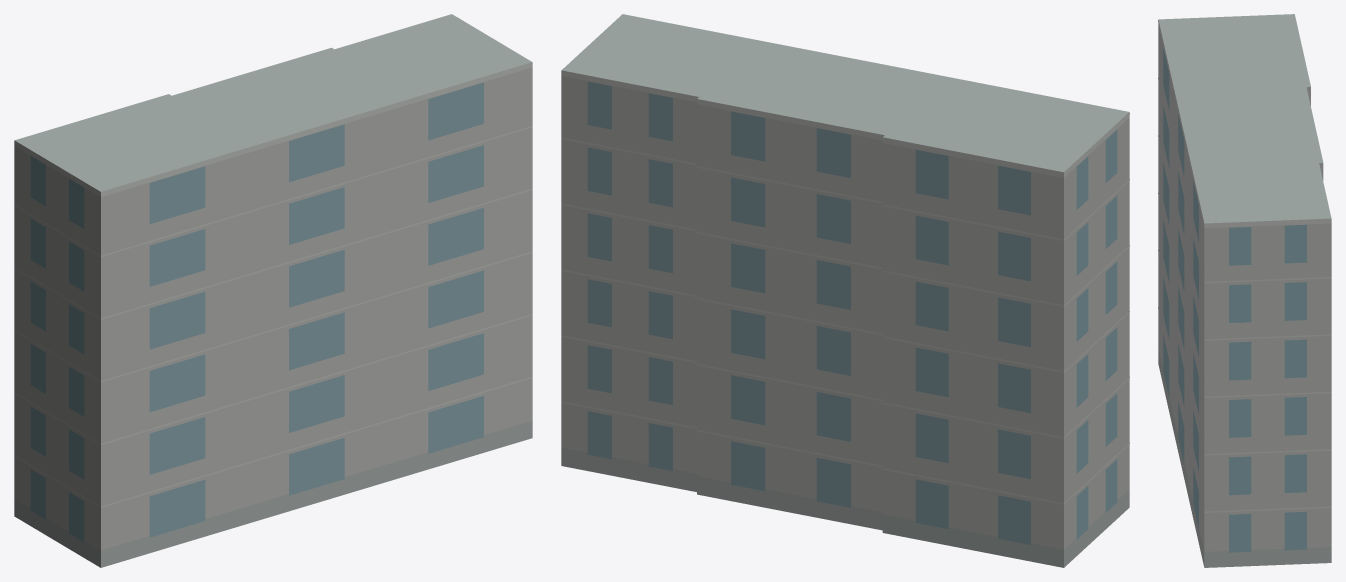
Rendered from survey-upis-32508730.glb.
The picture shows the model from 3 angles, left to right: view 1: azimuth 30°, elevation 25°; view 2: azimuth 150°, elevation 25°; view 3: azimuth 270°, elevation 25°; orthographic projection. The views are drawn at different scales.
Parts seen in each view (by area): view 1: survey-upis-32508730.tmp; view 2: survey-upis-32508730.tmp; view 3: survey-upis-32508730.tmp.
Part boxes in pixels (x1,y1,x2,y2): survey-upis-32508730.tmp: (14,14,532,567); survey-upis-32508730.tmp: (561,14,1129,567); survey-upis-32508730.tmp: (1158,14,1331,567).
Bounding box in the file's own units: 22.34 × 17.1 × 7.82.
